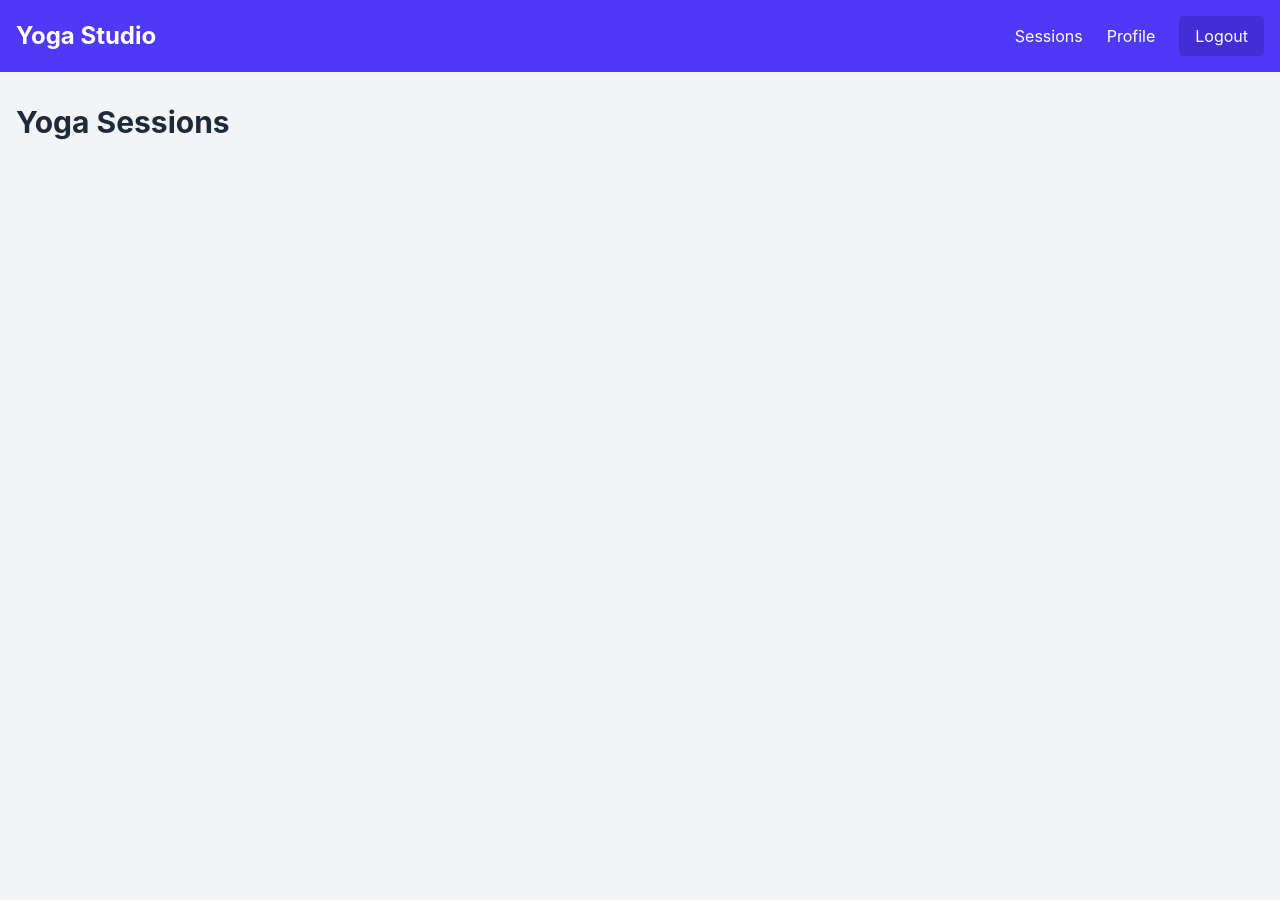
Test case: Authentication Flow › should logout user and navigate to /login
Click the button "Logout": (1222, 36) [1179, 16, 1264, 56]
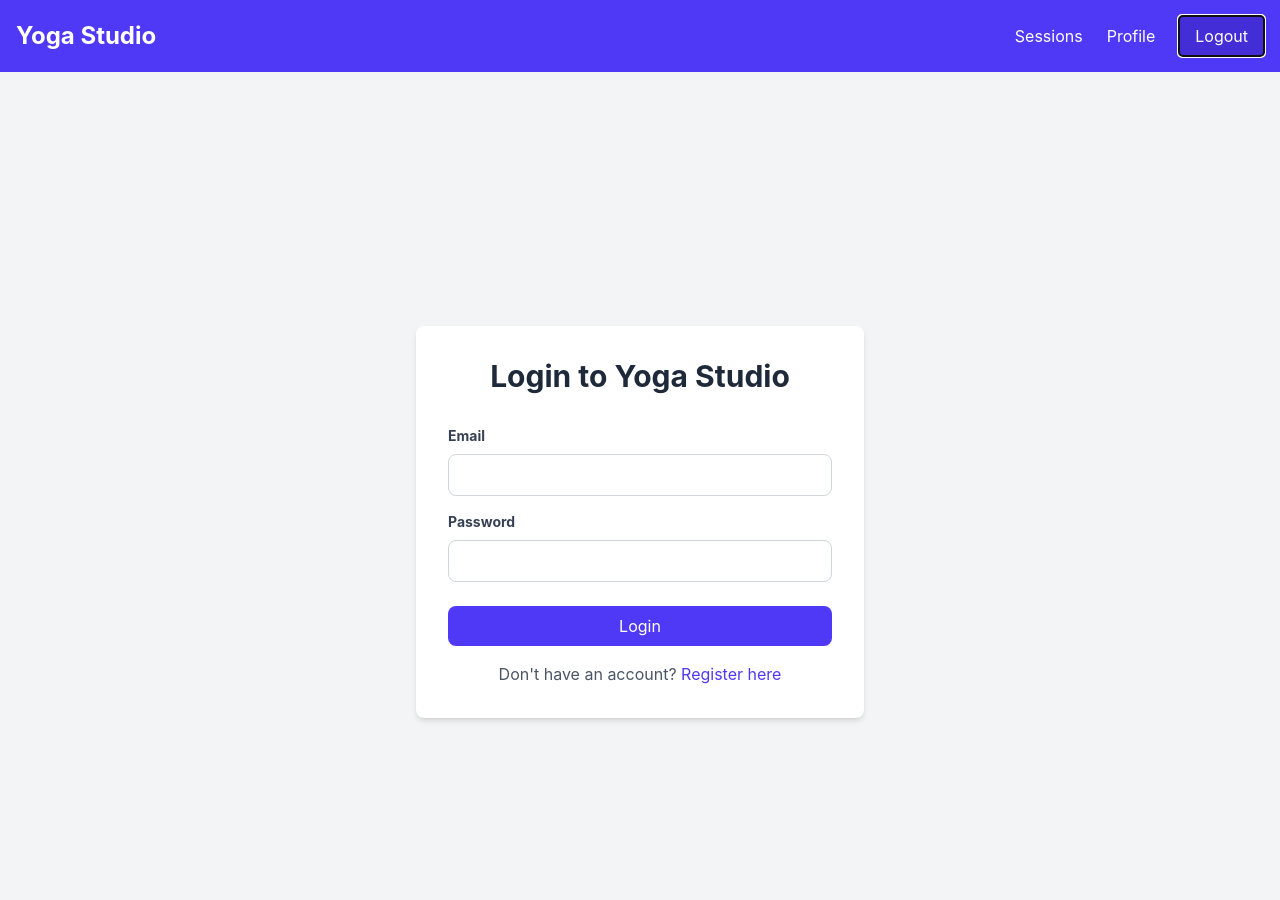
Check: the heading "Login to Yoga Studio" is shown, box [490, 358, 790, 394]
Check: the heading "Yoga Sessions" is gone
